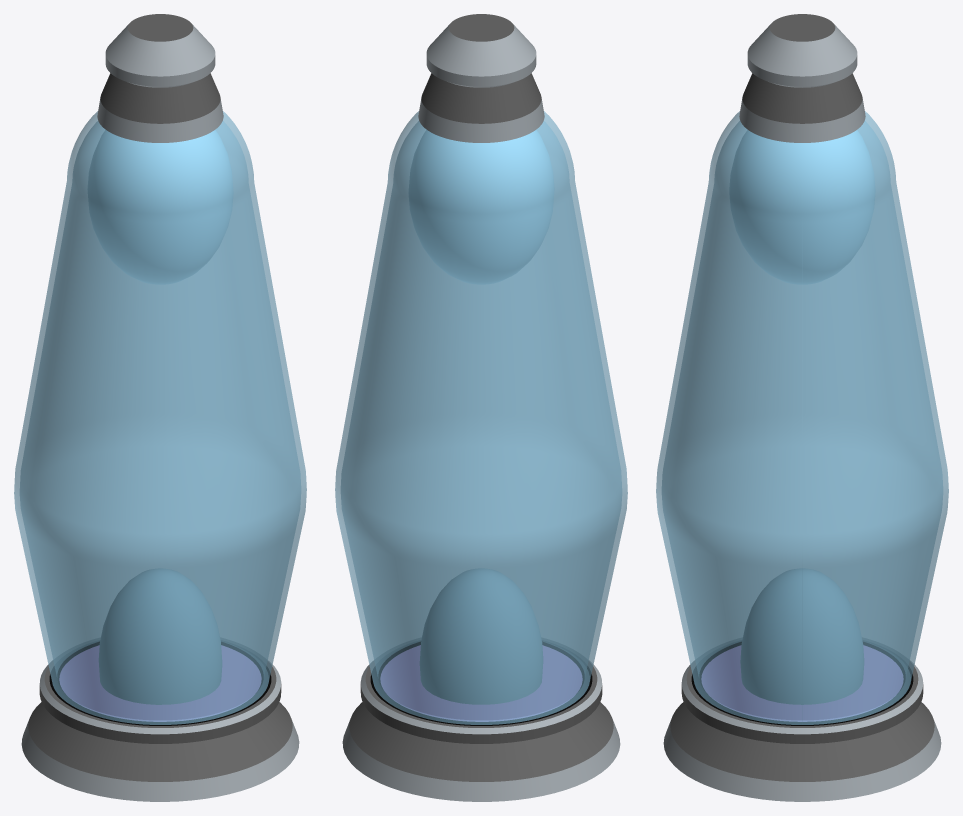
Rendered from Lavalamp3.fbx.
3 renders of one model, left to right at view 1: azimuth 30°, elevation 25°; view 2: azimuth 150°, elevation 25°; view 3: azimuth 270°, elevation 25°, orthographic.
Parts seen in each view (by area): view 1: _glass3, __base, lava_top, lava_bottom, __top; view 2: _glass3, __base, lava_top, lava_bottom, __top; view 3: _glass3, __base, lava_top, lava_bottom, __top.
Boxes of the visible parts, bbox=[...] form: _glass3: bbox=[14, 111, 306, 724]; __base: bbox=[21, 641, 299, 801]; lava_top: bbox=[87, 130, 233, 284]; lava_bottom: bbox=[99, 568, 221, 704]; __top: bbox=[97, 14, 223, 142]; _glass3: bbox=[335, 111, 627, 724]; __base: bbox=[342, 641, 620, 801]; lava_top: bbox=[409, 130, 554, 284]; lava_bottom: bbox=[420, 568, 542, 704]; __top: bbox=[418, 14, 544, 142]; _glass3: bbox=[656, 111, 948, 724]; __base: bbox=[663, 641, 941, 801]; lava_top: bbox=[729, 130, 875, 284]; lava_bottom: bbox=[740, 568, 863, 704]; __top: bbox=[739, 14, 865, 142].
Bounding box in the file's own units: 0.887 × 2.42 × 0.887.
